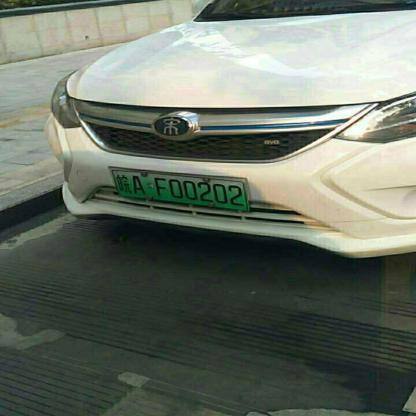lp: (111, 170, 248, 210)
